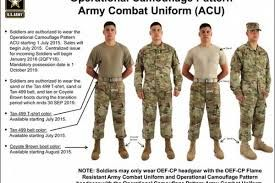uniform: (137, 41, 179, 147), (236, 42, 267, 140)
